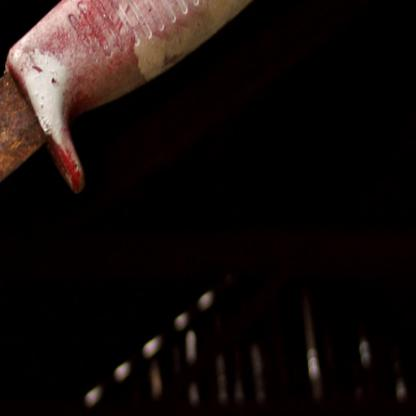knife: (0, 0, 324, 347)
